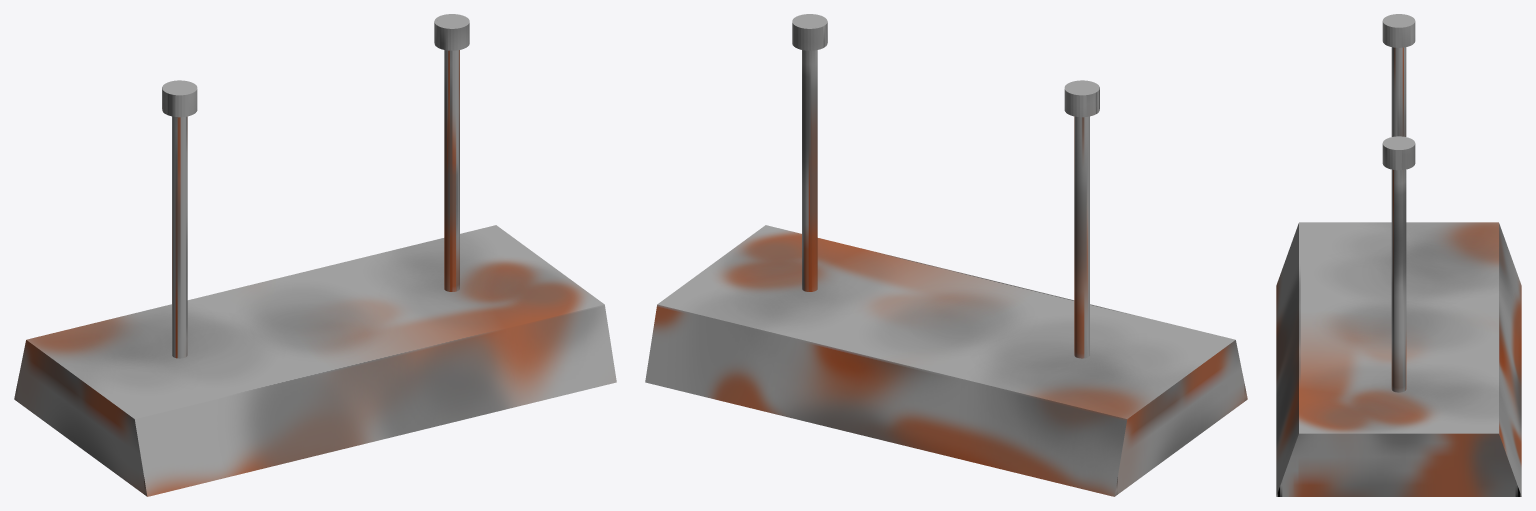
Rendered from Light.fbx.
The picture shows the model from 3 angles, left to right: view 1: azimuth 30°, elevation 25°; view 2: azimuth 150°, elevation 25°; view 3: azimuth 270°, elevation 25°; orthographic projection. The views are drawn at different scales.
Parts seen in each view (by area): view 1: Cylinder.002; view 2: Cylinder.002; view 3: Cylinder.002.
Part boxes in pixels (left/top/right/bottom): Cylinder.002: left=14, top=14, right=616, bottom=496; Cylinder.002: left=645, top=14, right=1247, bottom=496; Cylinder.002: left=1276, top=14, right=1521, bottom=496.
Bounding box in the file's own units: 345 × 236 × 170.
Materials: 1 (1 with a texture image).
